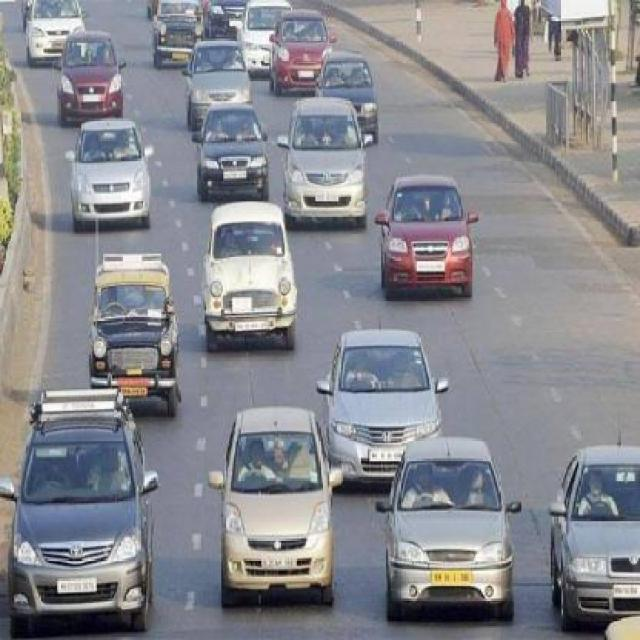vehicle: (2, 384, 162, 638), (378, 437, 521, 620), (210, 403, 344, 596), (206, 198, 299, 352), (376, 172, 480, 298), (91, 252, 181, 386), (282, 96, 371, 230), (64, 114, 156, 226), (192, 100, 268, 189), (57, 26, 125, 118), (182, 36, 254, 111), (269, 11, 336, 88)
